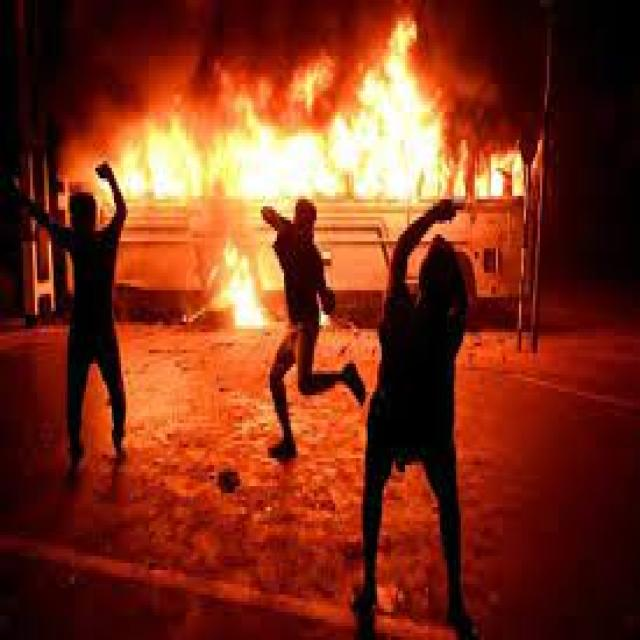fire: (80, 16, 553, 209), (200, 238, 269, 335)
